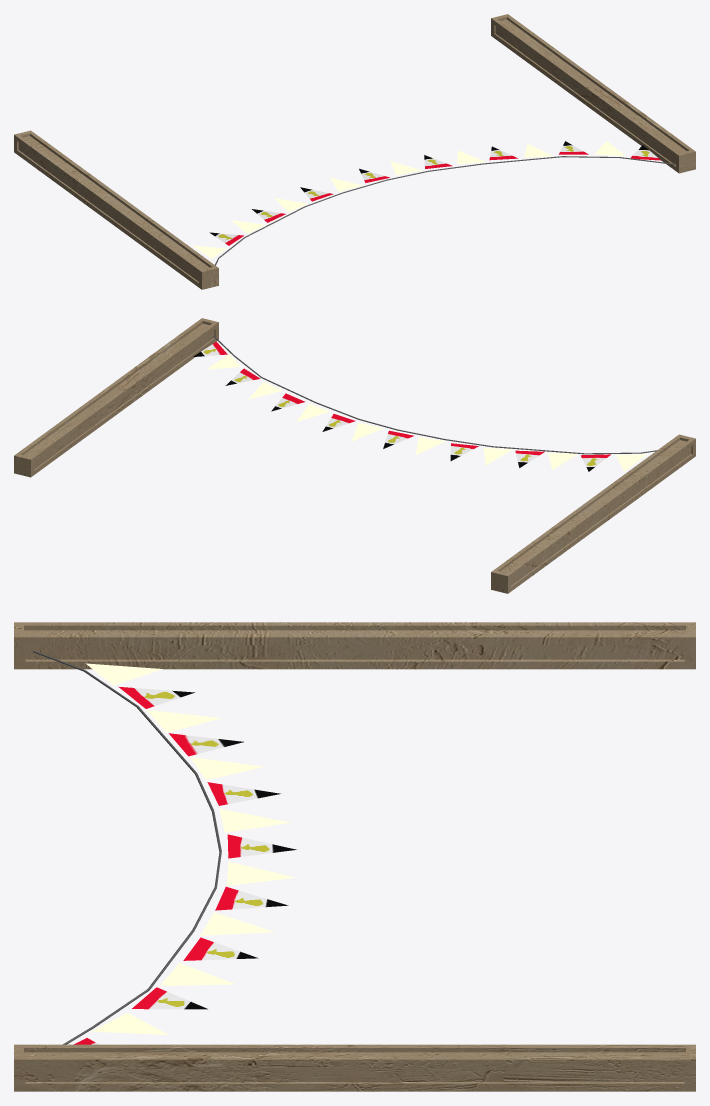
The model's file is Vlaggetjes.fbx.
The picture shows the model from 3 angles, top to bottom: view 1: azimuth 30°, elevation 25°; view 2: azimuth 150°, elevation 25°; view 3: azimuth 270°, elevation 25°; orthographic projection. The views are drawn at different scales.
Parts seen in each view (by area): view 1: Triangle.009; view 2: Triangle.009; view 3: Triangle.009.
Boxes of the visible parts, bbox=[...] form: Triangle.009: bbox=[14, 14, 695, 289]; Triangle.009: bbox=[14, 318, 695, 593]; Triangle.009: bbox=[14, 622, 695, 1091].
Size of the model in its own units: 455 by 15.59 by 300.
4 materials, 2 textured.
